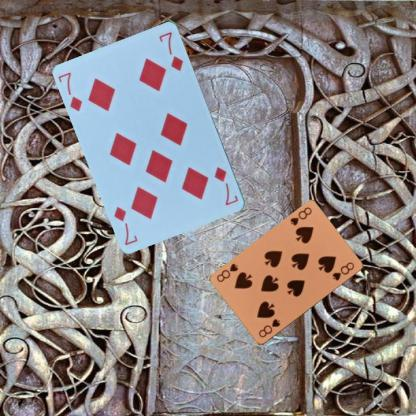7d: (211, 164, 240, 207), (56, 69, 84, 113)
8s: (287, 205, 313, 227), (256, 317, 281, 339)
